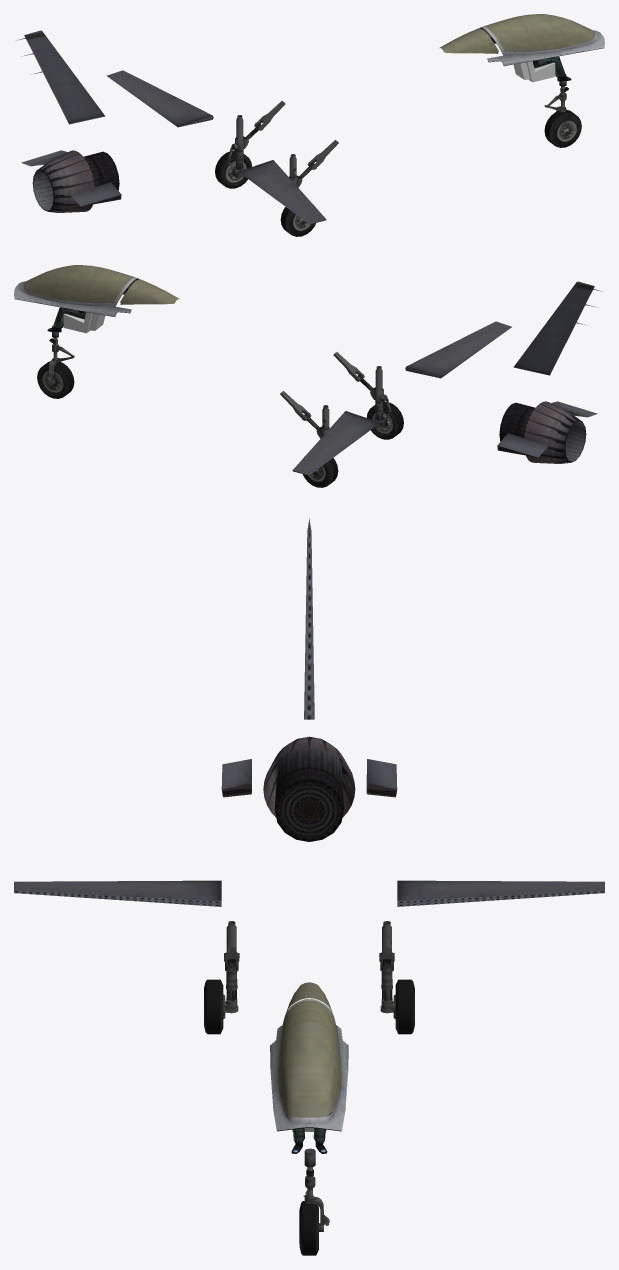
3 views of the same model, one above another, from view 1: azimuth 30°, elevation 25°; view 2: azimuth 150°, elevation 25°; view 3: azimuth 270°, elevation 25° (orthographic). The views are drawn at different scales.
Visible parts, largest first — view 1: EngineL002, Glass_Canopy003_001, Rudder_center001, 1_Aileron_L001, 1_Aileron_R001, chassis_back_L008, chassis_forward008, Canopy003_001, chassis_back_R008, Glass003_001, Brake_R001, Eject_Seat (+1 smaller); view 2: EngineL002, Glass_Canopy003_001, Rudder_center001, 1_Aileron_R001, 1_Aileron_L001, chassis_back_R008, chassis_forward008, Canopy003_001, chassis_back_L008, Glass003_001, Brake_L001, Eject_Seat (+1 smaller); view 3: EngineL002, Glass_Canopy003_001, 1_Aileron_L001, 1_Aileron_R001, Canopy003_001, chassis_back_R008, chassis_back_L008, chassis_forward008, Rudder_center001, Brake_L001, Brake_R001.
Boxes of the visible parts, x1,y1,x2,y2 form: EngineL002: (32,150,119,212); Glass_Canopy003_001: (482,14,595,52); Rudder_center001: (17,30,105,124); 1_Aileron_L001: (106,70,213,127); 1_Aileron_R001: (238,160,326,224); chassis_back_L008: (215,101,285,188); chassis_forward008: (544,74,581,147); Canopy003_001: (480,26,604,66); chassis_back_R008: (280,140,338,236); Glass003_001: (439,28,498,53); Brake_R001: (71,182,121,206); Eject_Seat: (513,61,555,82); EngineL002: (499,401,586,463); Glass_Canopy003_001: (23,265,136,303); Rudder_center001: (513,281,602,375); 1_Aileron_R001: (405,321,511,378); 1_Aileron_L001: (292,411,379,475); chassis_back_R008: (333,352,403,439); chassis_forward008: (37,325,74,398); Canopy003_001: (14,277,138,316); chassis_back_L008: (280,391,338,487); Glass003_001: (120,279,179,304); Brake_L001: (497,433,547,457); Eject_Seat: (63,312,105,333); EngineL002: (263,736,355,841); Glass_Canopy003_001: (277,1000,341,1117); 1_Aileron_L001: (397,880,604,906); 1_Aileron_R001: (14,880,221,906); Canopy003_001: (270,999,348,1131); chassis_back_R008: (204,921,239,1034); chassis_back_L008: (379,921,414,1034); chassis_forward008: (299,1148,329,1255); Rudder_center001: (304,518,314,719); Brake_L001: (366,759,397,797); Brake_R001: (221,759,251,797).
Size of what is drawn, in the model's own units: 13.9 by 5.49 by 8.35.
